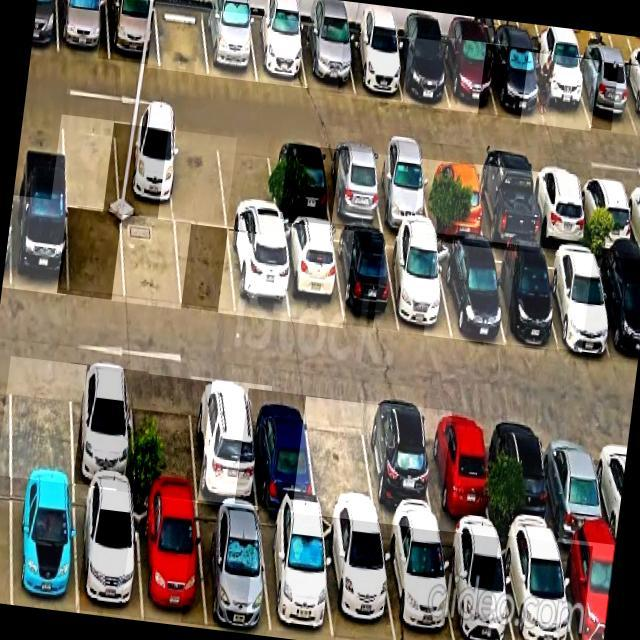empty: (306, 397, 377, 522), (131, 372, 198, 500), (11, 357, 73, 481), (217, 136, 278, 234), (175, 223, 236, 314), (169, 130, 226, 226), (122, 215, 180, 309), (62, 115, 118, 211), (67, 207, 124, 300), (155, 2, 209, 75)
occupied: (195, 503, 270, 633), (361, 403, 438, 529), (259, 511, 332, 640), (134, 495, 206, 625), (321, 517, 394, 640), (424, 408, 493, 536), (542, 421, 611, 547), (76, 486, 142, 617), (11, 480, 76, 611), (190, 380, 257, 507), (380, 527, 454, 640), (249, 388, 316, 512), (71, 362, 134, 491), (440, 531, 514, 640), (492, 415, 556, 541), (499, 537, 572, 640), (541, 250, 612, 355), (435, 243, 505, 345), (486, 248, 557, 347), (384, 235, 451, 338), (334, 229, 399, 329), (281, 223, 343, 326), (113, 122, 173, 220), (557, 542, 615, 640), (11, 195, 67, 295), (228, 231, 289, 321), (474, 164, 539, 247), (269, 142, 331, 224), (594, 254, 640, 364), (572, 56, 637, 133), (422, 159, 484, 238), (322, 147, 383, 227), (371, 152, 432, 231), (529, 52, 591, 129), (529, 169, 589, 248), (577, 174, 635, 253), (486, 44, 544, 122), (441, 39, 497, 115), (249, 16, 306, 88), (392, 37, 449, 108), (203, 8, 257, 81), (345, 31, 402, 100), (300, 25, 353, 92), (106, 0, 159, 65), (57, 0, 108, 59), (619, 64, 640, 134)
